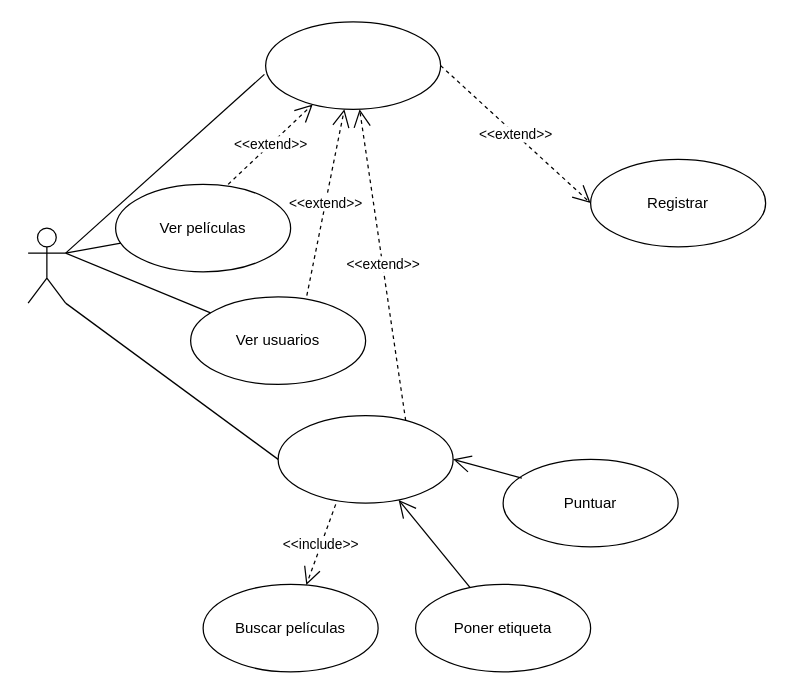
Some shapes in this 788 by 694 pixel diagram are drawn without their labels. Here are the shapes that lost their labels. From the top down, the centre of each, then its label:
the point at 352,65: Iniciar sesión
the point at 46,265: Usuario
the point at 365,458: Valorar películas
